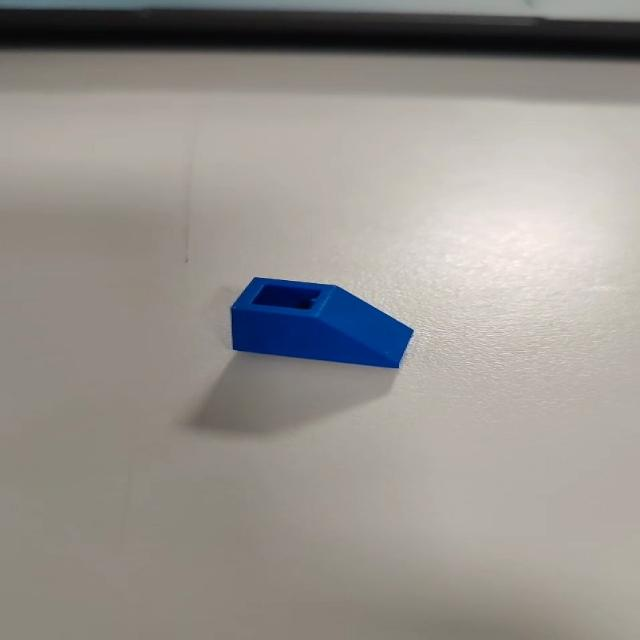X1x2x1: (227, 276, 418, 372)
